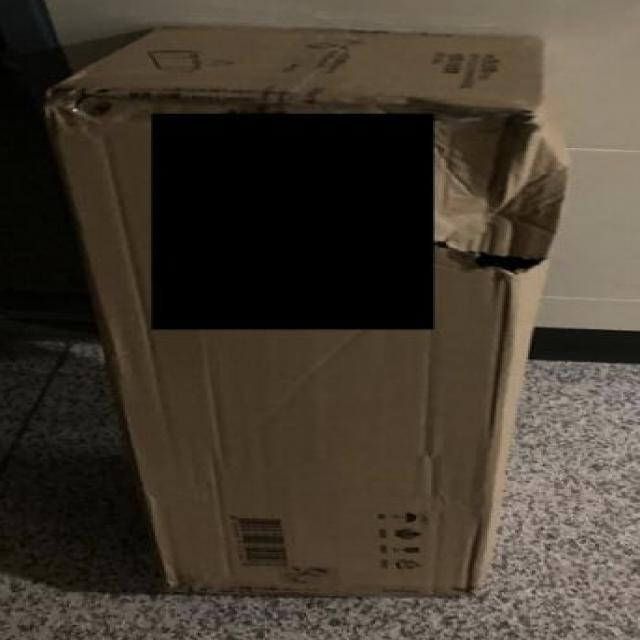hole: (442, 239, 548, 283)
